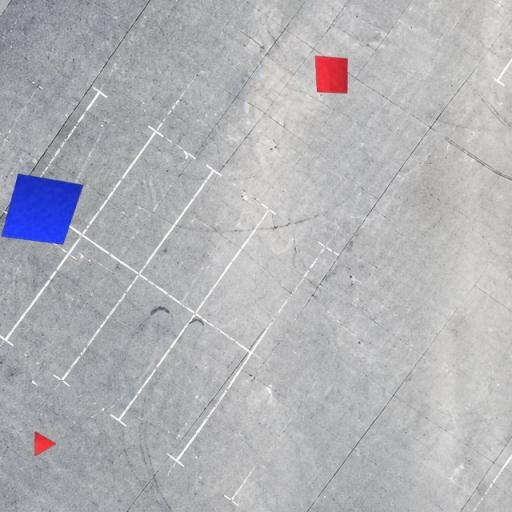BLUE_SQUARE: (1, 172, 84, 246)
RED_SQUARE: (314, 56, 349, 94)
